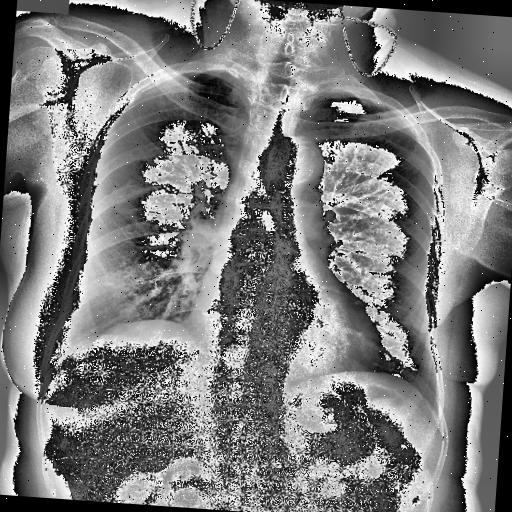0- Aortic enlargement: (256, 132, 329, 196), (271, 136, 327, 198), (265, 135, 324, 186)
11- Pleural thickening: (194, 69, 234, 81)
3- Cardiomegaly: (187, 290, 384, 371)
